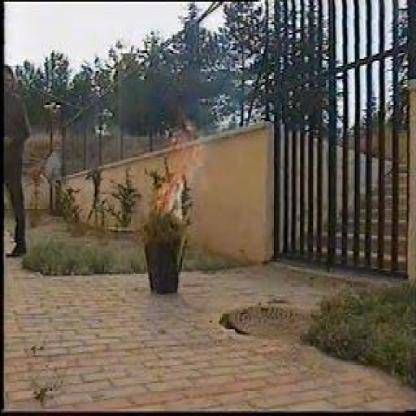-: (171, 178, 188, 216)
foggia-v2-map80-epoch100 - v1 4323: (171, 138, 188, 174)
